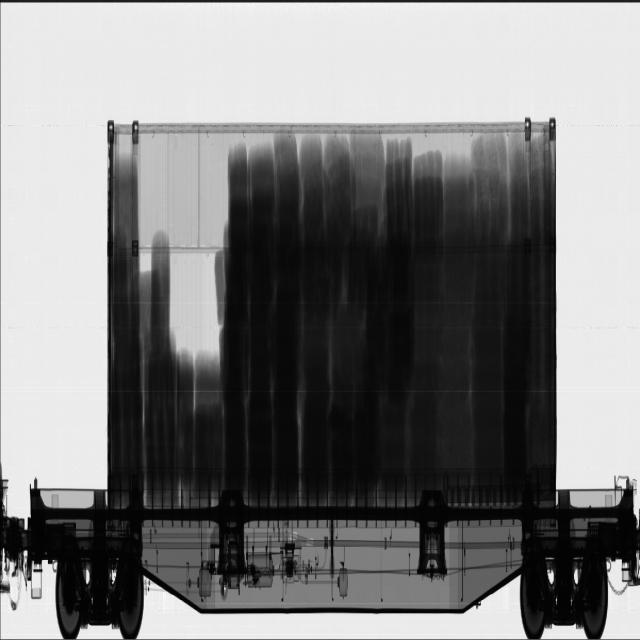clothes: (92, 129, 368, 477)
textile: (365, 132, 457, 468)
